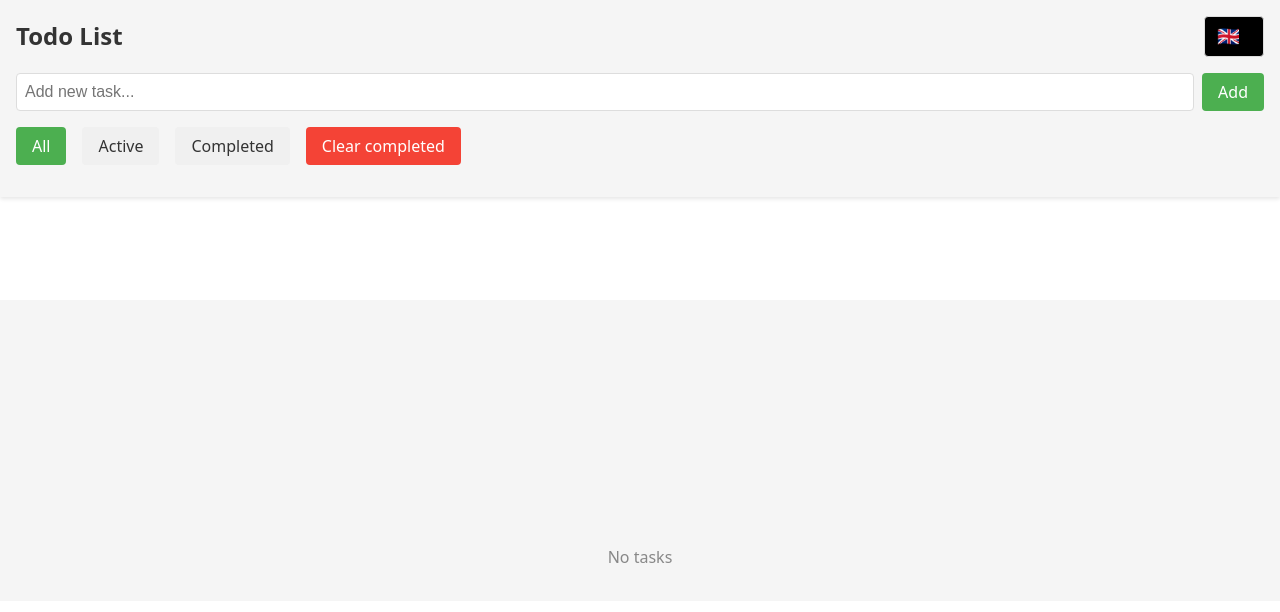
Test case: TodoList › saves todos to localStorage when adding
Type "New Todo" into the field with placeholder "Add new task..." at (605, 92), box [16,73,1194,111]
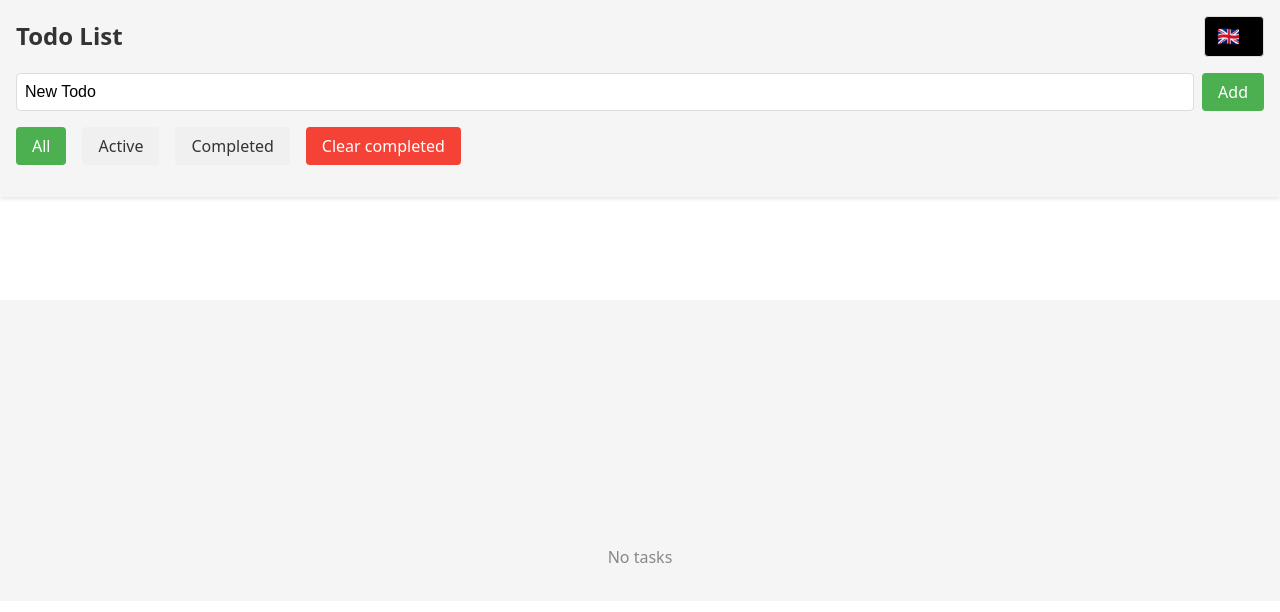
Click the button "Add" at (1233, 92), box [1202,73,1264,111]
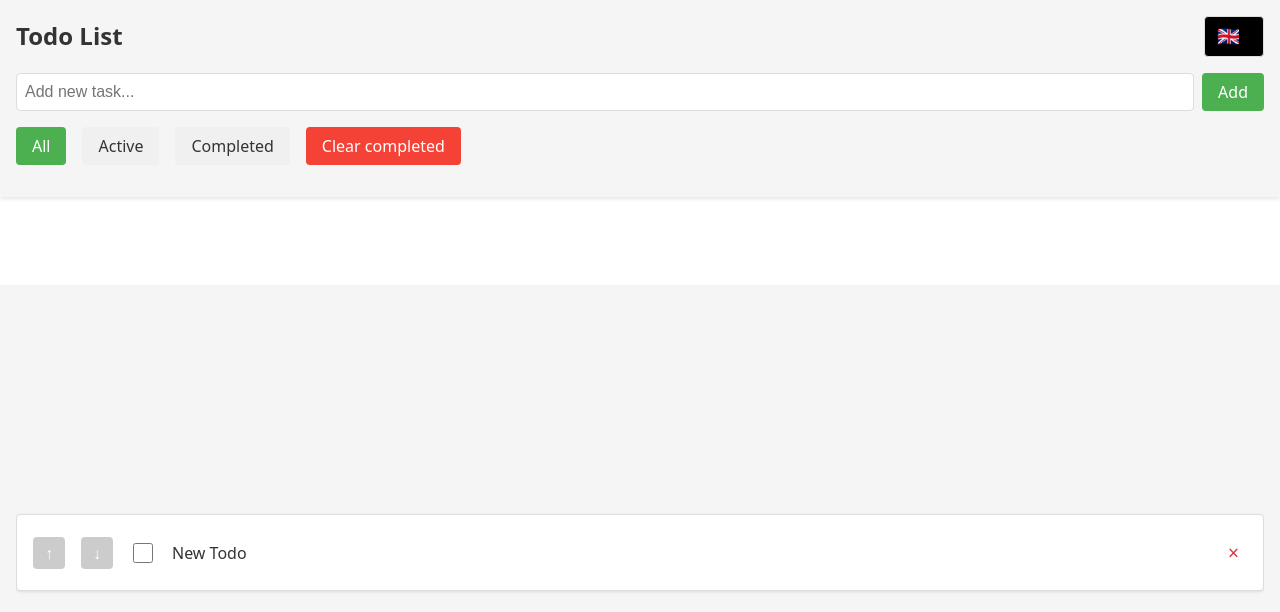
Now the text "New Todo" is shown, box [172,542,247,564]
